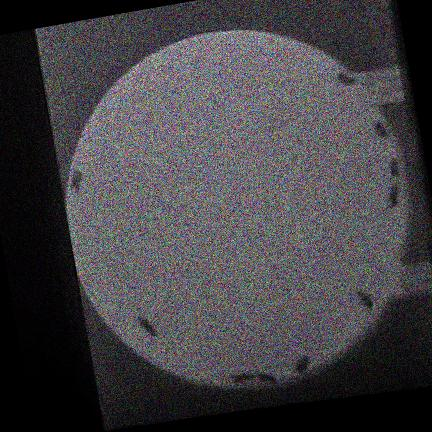fly: (137, 318, 157, 336), (355, 290, 373, 309), (371, 121, 387, 140), (387, 182, 399, 207), (226, 374, 253, 385), (293, 356, 309, 374), (69, 170, 81, 193), (254, 372, 276, 384), (335, 72, 356, 84), (388, 159, 399, 181)
